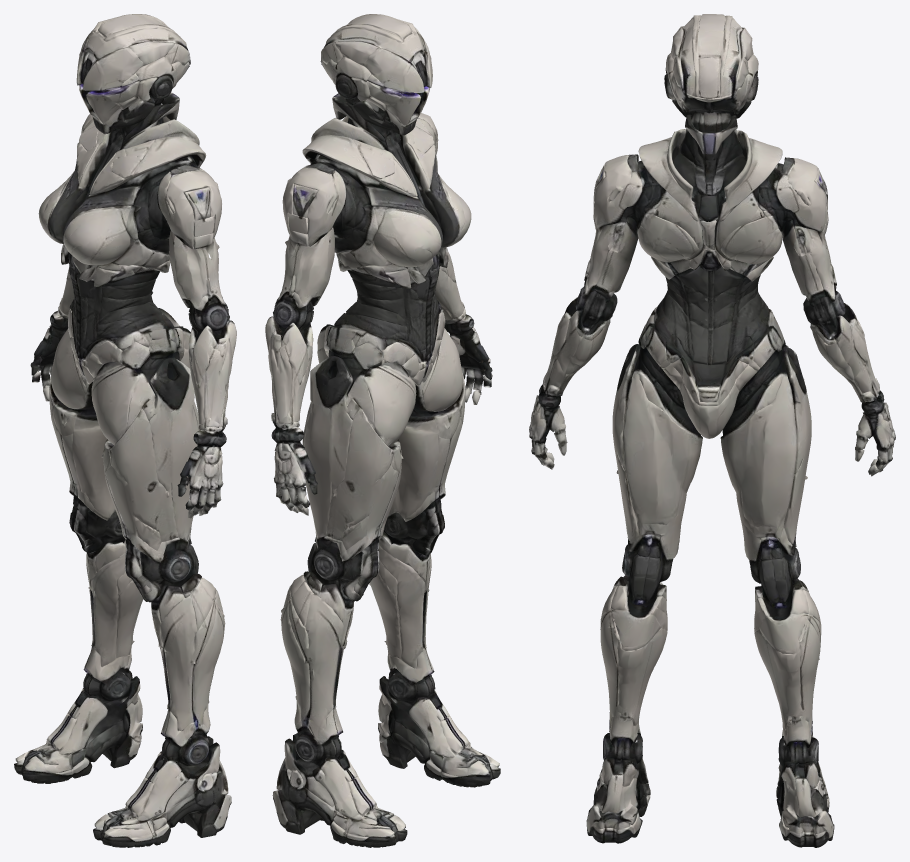
Rendered from nx-spectre.glb.
3 views of the same model, side by side, from view 1: azimuth 30°, elevation 25°; view 2: azimuth 150°, elevation 25°; view 3: azimuth 270°, elevation 25° (orthographic). The views are drawn at different scales.
Visible parts, largest first — view 1: tripo_node_dead28cd-7bc2-402f-ba41-c980f4f55fc4; view 2: tripo_node_dead28cd-7bc2-402f-ba41-c980f4f55fc4; view 3: tripo_node_dead28cd-7bc2-402f-ba41-c980f4f55fc4.
Part boxes in pixels (bbox=[...]): tripo_node_dead28cd-7bc2-402f-ba41-c980f4f55fc4: bbox=[14, 14, 236, 847]; tripo_node_dead28cd-7bc2-402f-ba41-c980f4f55fc4: bbox=[265, 14, 500, 847]; tripo_node_dead28cd-7bc2-402f-ba41-c980f4f55fc4: bbox=[529, 14, 895, 847].
Size of the model in its own units: 0.1781 by 0.9791 by 0.4065.
Materials: 1 (1 with a texture image).
